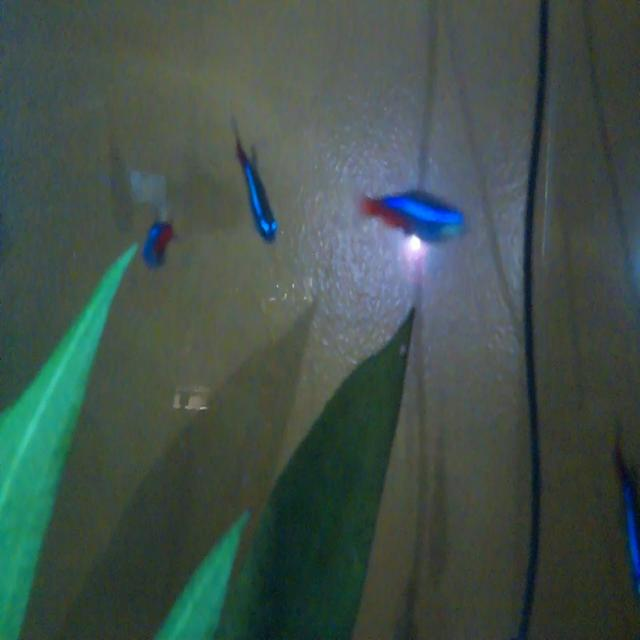fish: (348, 170, 472, 258), (221, 117, 286, 256), (137, 210, 180, 274)
